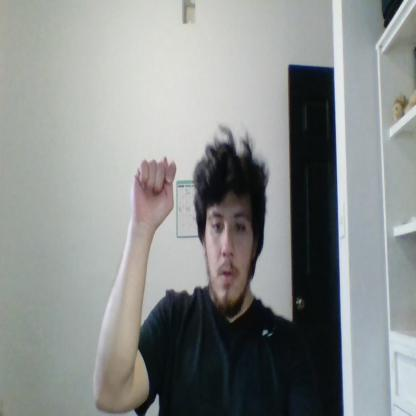T: (130, 154, 178, 228)
